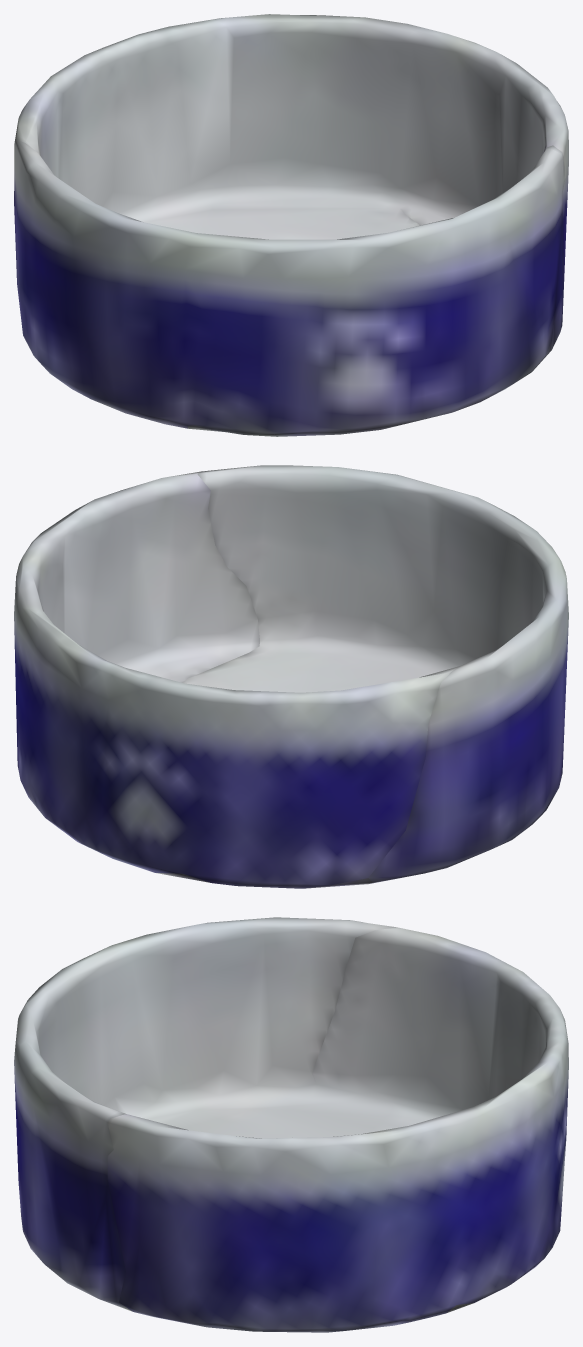
The model's file is Top_Paw_Dog_Bowl_Blue_Paw_Bone_Ceramic_25_fl_oz_total-medium.glb.
3 renders of one model, top to bottom at view 1: azimuth 30°, elevation 25°; view 2: azimuth 150°, elevation 25°; view 3: azimuth 270°, elevation 25°, orthographic.
Parts seen in each view (by area): view 1: Top_Paw_Dog_Bowl_Blue_Paw_Bone_Ceramic_25_fl_oz_total; view 2: Top_Paw_Dog_Bowl_Blue_Paw_Bone_Ceramic_25_fl_oz_total; view 3: Top_Paw_Dog_Bowl_Blue_Paw_Bone_Ceramic_25_fl_oz_total.
Part boxes in pixels (x1,y1,x2,y2): Top_Paw_Dog_Bowl_Blue_Paw_Bone_Ceramic_25_fl_oz_total: (14,14,568,436); Top_Paw_Dog_Bowl_Blue_Paw_Bone_Ceramic_25_fl_oz_total: (14,465,568,888); Top_Paw_Dog_Bowl_Blue_Paw_Bone_Ceramic_25_fl_oz_total: (14,917,568,1332).
Bounding box in the file's own units: 0.1525 × 0.0602 × 0.1531.
1 material, 1 textured.
